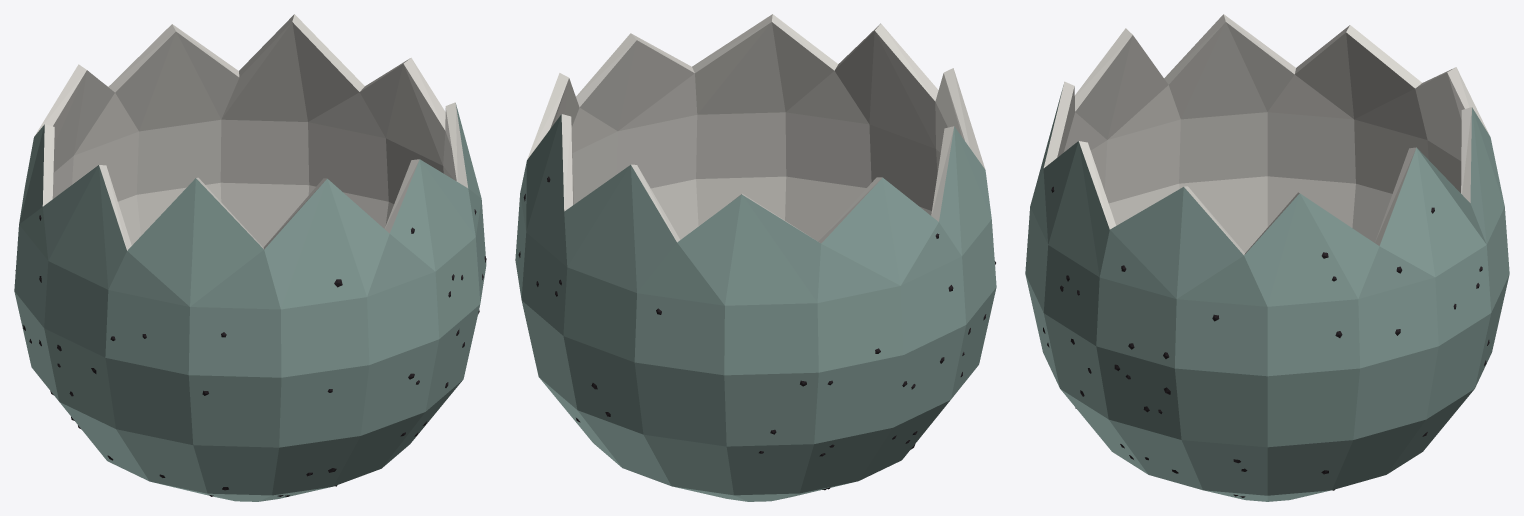
The model's file is eggshell-half-d30a1c.glb.
The picture shows the model from 3 angles, left to right: view 1: azimuth 30°, elevation 25°; view 2: azimuth 150°, elevation 25°; view 3: azimuth 270°, elevation 25°; orthographic projection.
Parts seen in each view (by area): view 1: eggshell-half-mesh; view 2: eggshell-half-mesh; view 3: eggshell-half-mesh.
Part boxes in pixels (left/top/right/bottom): eggshell-half-mesh: left=14, top=14, right=486, bottom=501; eggshell-half-mesh: left=515, top=14, right=996, bottom=501; eggshell-half-mesh: left=1025, top=14, right=1509, bottom=501.
Bounding box in the file's own units: 2.2 × 1.94 × 2.2.
